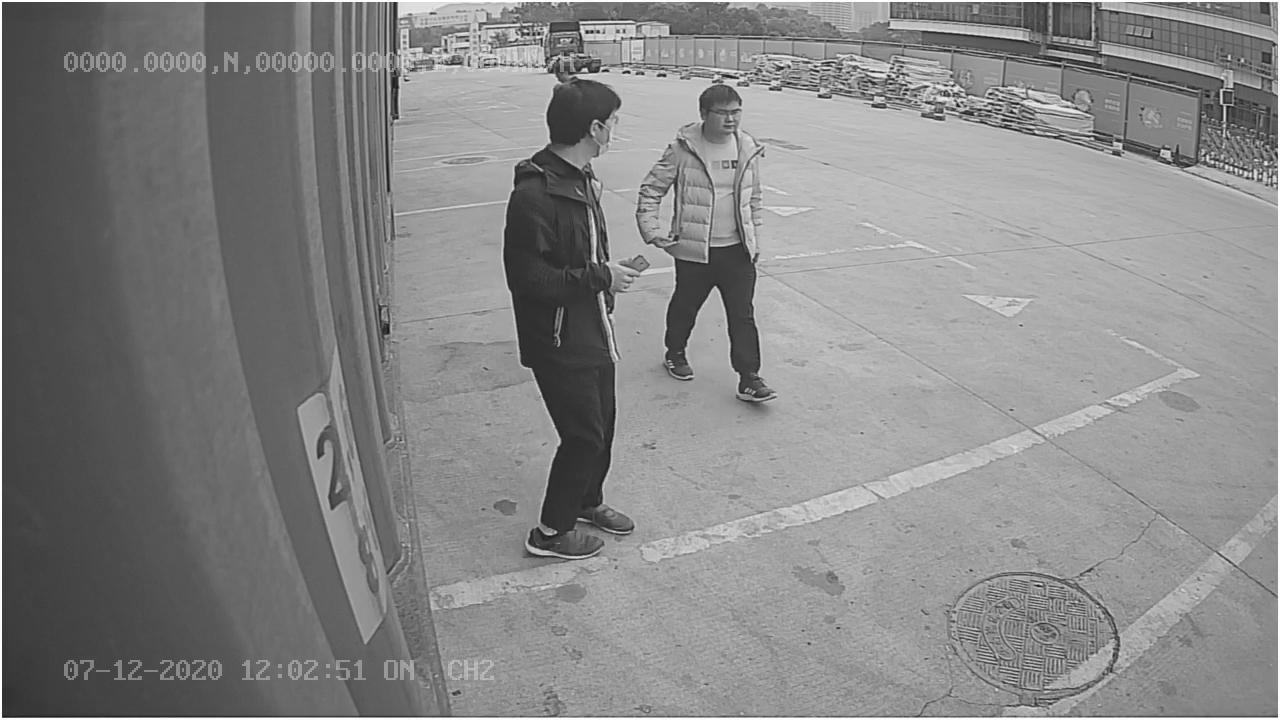person: (497, 81, 640, 566)
